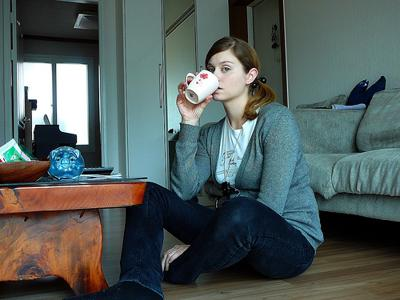person: (77, 34, 327, 300)
